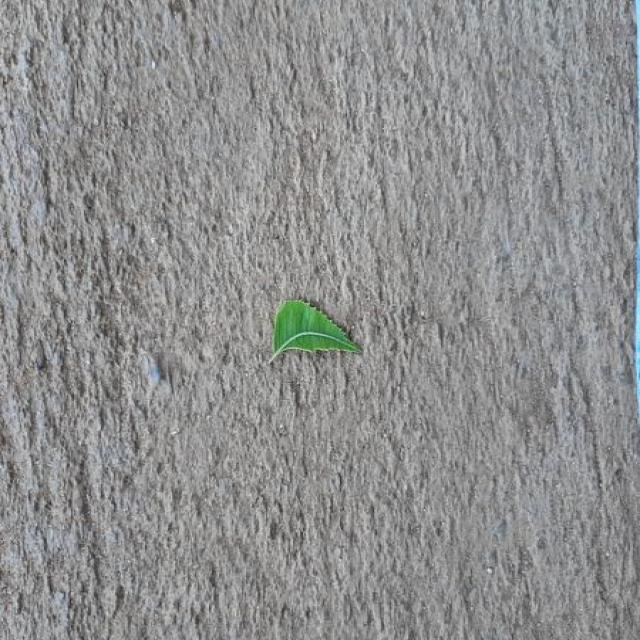neem: (273, 300, 360, 359)
